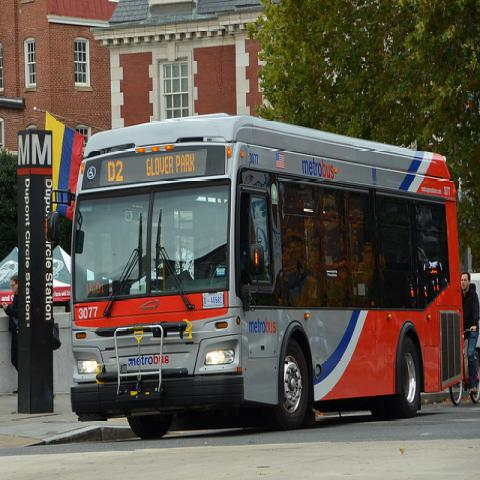bus: (65, 109, 468, 425)
